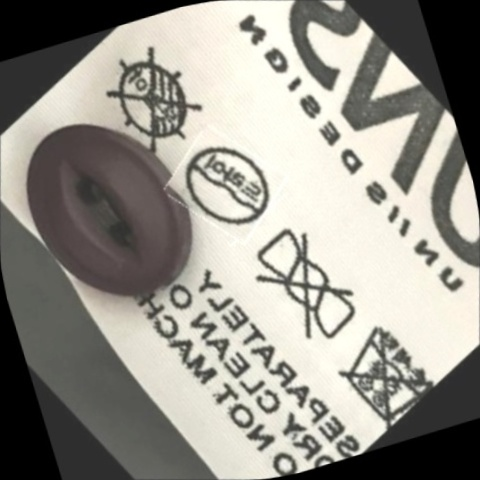DN_dry: (77, 23, 231, 178)
DN_wring: (219, 201, 392, 374)
dry_clean: (156, 115, 296, 257)
hand_wash: (309, 293, 458, 448)
